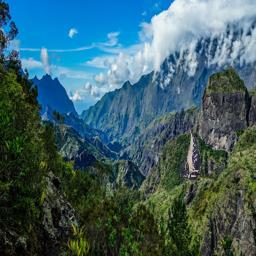Woodpecker: (183, 121, 202, 181)
